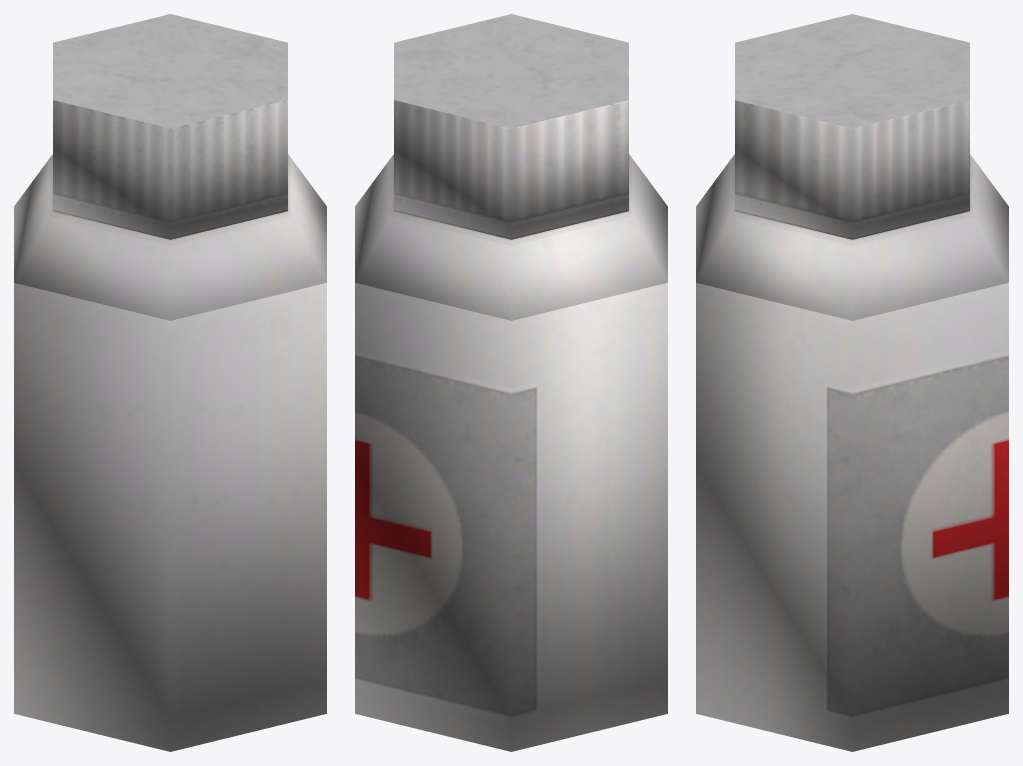
Rendered from Pickup_Painkillers1.glb.
The picture shows the model from 3 angles, left to right: view 1: azimuth 30°, elevation 25°; view 2: azimuth 150°, elevation 25°; view 3: azimuth 270°, elevation 25°; orthographic projection.
Parts seen in each view (by area): view 1: pk_Painkillers_1; view 2: pk_Painkillers_1; view 3: pk_Painkillers_1.
Boxes of the visible parts, x1,y1,x2,y2 form: pk_Painkillers_1: (14, 14, 326, 751); pk_Painkillers_1: (355, 14, 667, 751); pk_Painkillers_1: (696, 14, 1008, 751).
Bounding box in the file's own units: 0.1459 × 0.2694 × 0.1264.
Materials: 1 (1 with a texture image).
